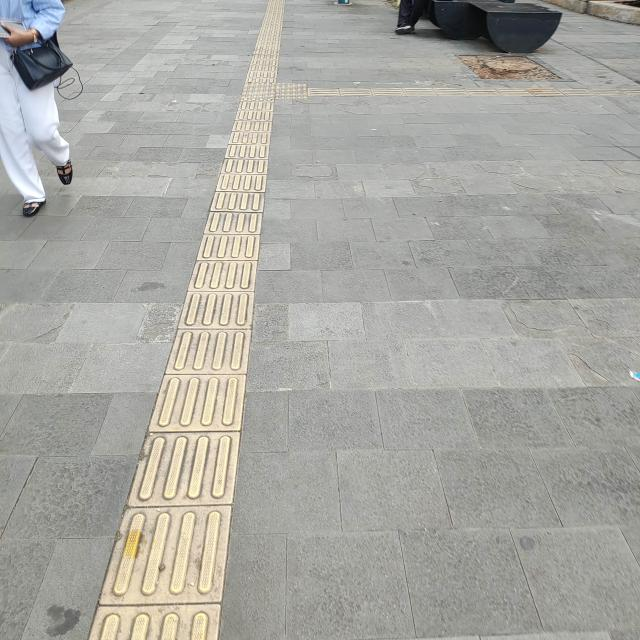lurus: (172, 63, 284, 640)
